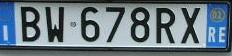.: (69, 21, 77, 28)
6: (81, 6, 101, 43), (45, 6, 64, 43)
7: (106, 5, 125, 44)
8: (131, 7, 149, 44)
B: (20, 6, 41, 41)
R: (156, 7, 175, 44)
X: (180, 7, 200, 44)
